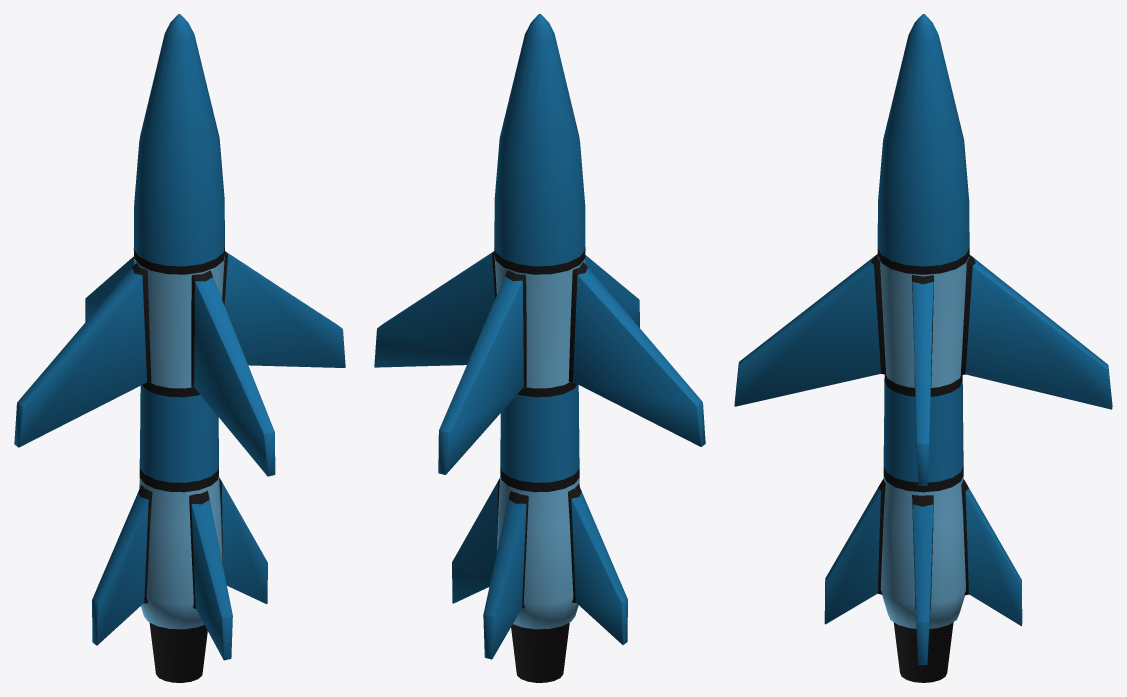
Rendered from Bullet.fbx.
3 renders of one model, left to right at view 1: azimuth 30°, elevation 25°; view 2: azimuth 150°, elevation 25°; view 3: azimuth 270°, elevation 25°, orthographic.
Visible parts, largest first — view 1: RMB_23; view 2: RMB_23; view 3: RMB_23.
Boxes of the visible parts, left/top/right/bottom form: RMB_23: left=14, top=14, right=345, bottom=682; RMB_23: left=374, top=14, right=705, bottom=682; RMB_23: left=734, top=14, right=1112, bottom=682.
Bounding box in the file's own units: 562 × 1079 × 562.
Materials: 1 (1 with a texture image).
